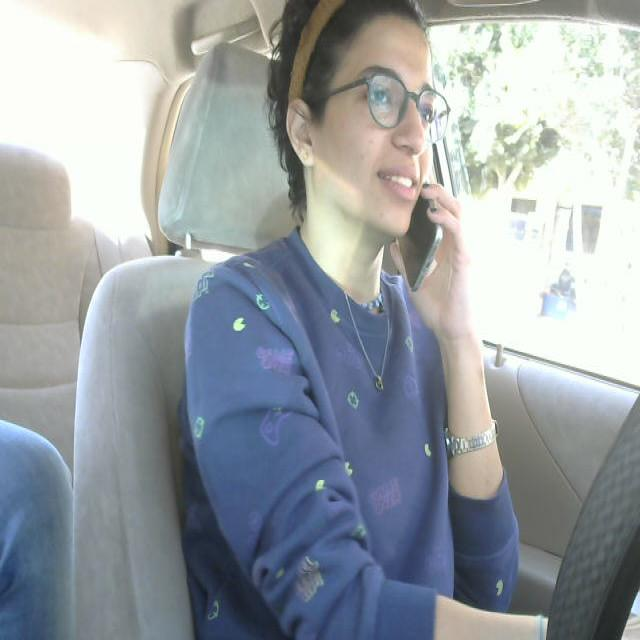mobile use: (393, 159, 451, 300)
